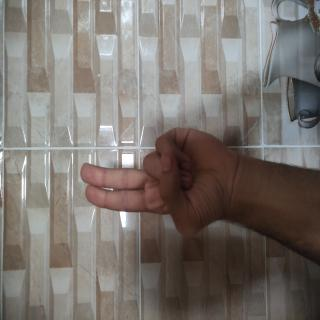TA: (53, 101, 147, 320)
